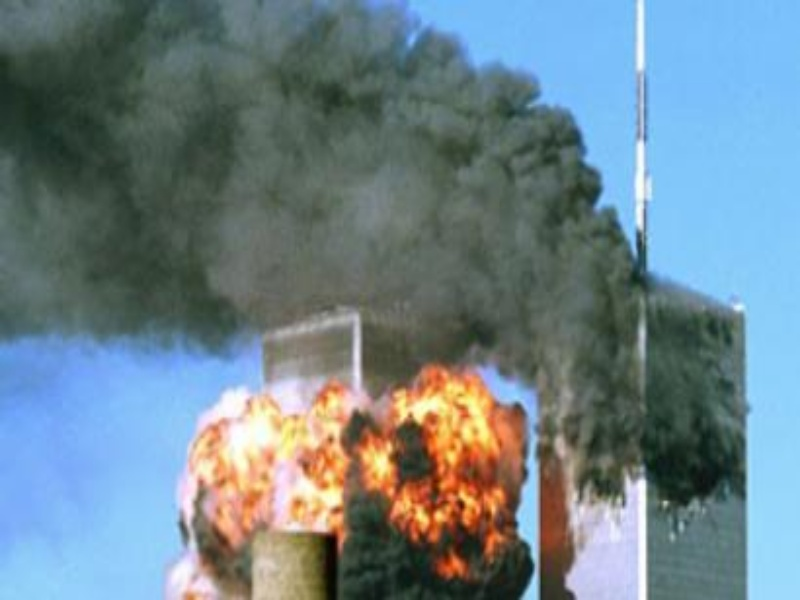smoke: (3, 1, 608, 339)
